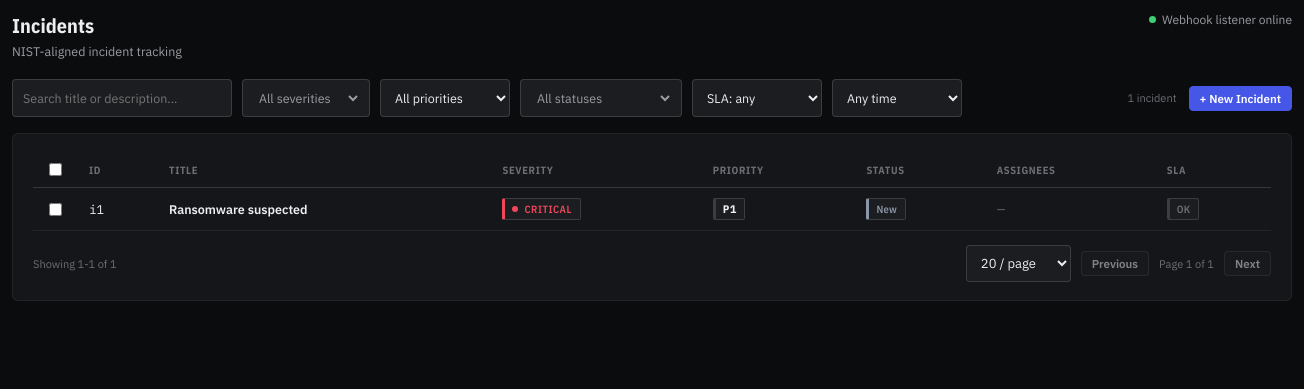
Test: IncidentsListPage › bulk phase-change › applying a bulk phase change posts the selected ids and shows a success summary
Expected: the text "Ransomware suspected" is shown, [157,188,490,230]
Click the checkbox named "Select incident" at (56, 209), box [49,202,62,216]
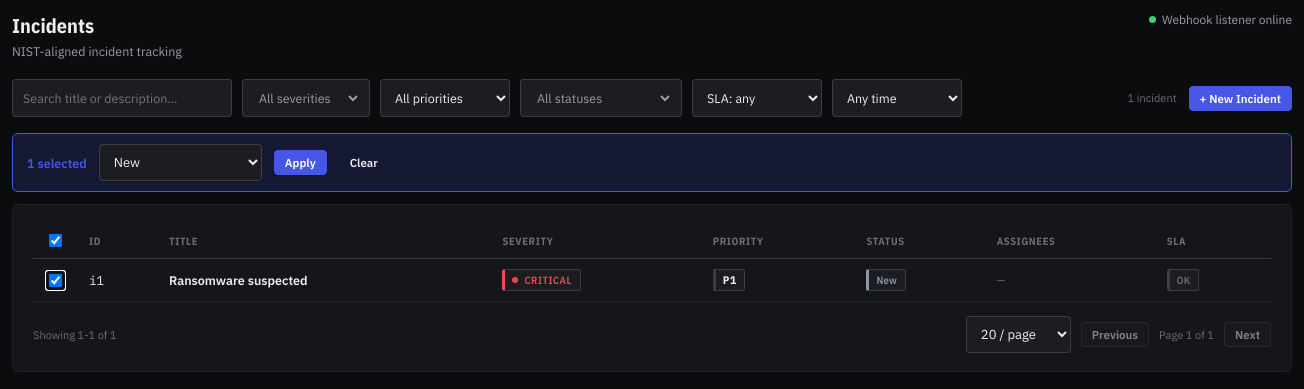
Click the button "Apply" at (300, 162), box [274,150,327,175]
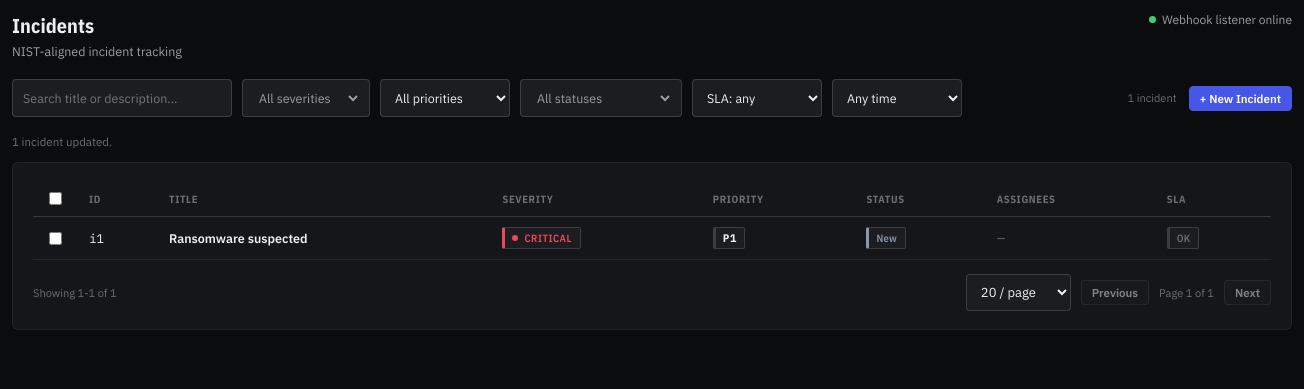
Expected: the text "1 incident updated." is shown, [12,134,112,149]
Expected: the text "selected" is gone
